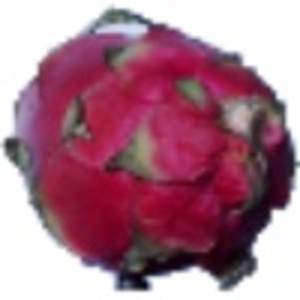pitaia: (1, 6, 300, 294)
